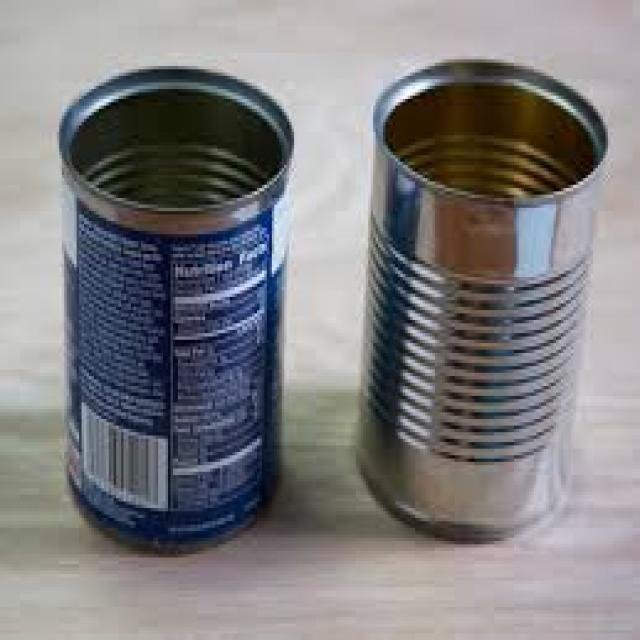metal-can: (364, 55, 611, 552), (57, 60, 295, 558)
